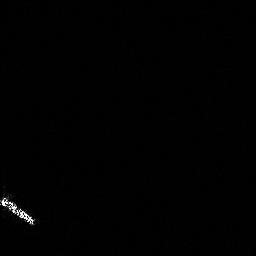ship: (1, 192, 40, 229)
